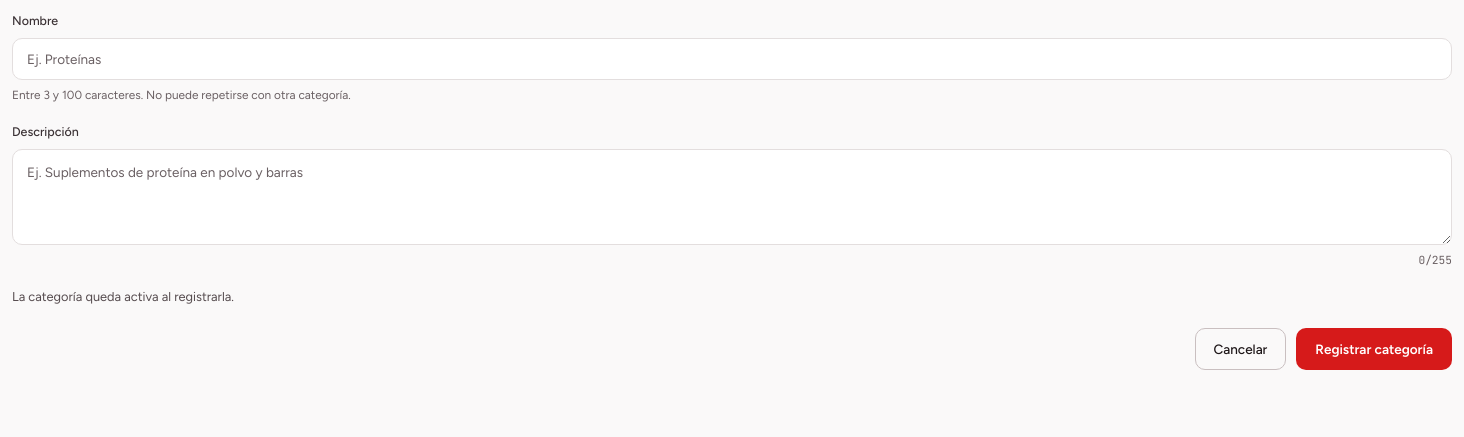
Test: CreateCategoryForm › asks for the name and the description
What coordinates should you click on to do the following:
click the button "Registrar categoría"
I would click on:
 (1374, 349)
Its box is [1296, 328, 1452, 370].
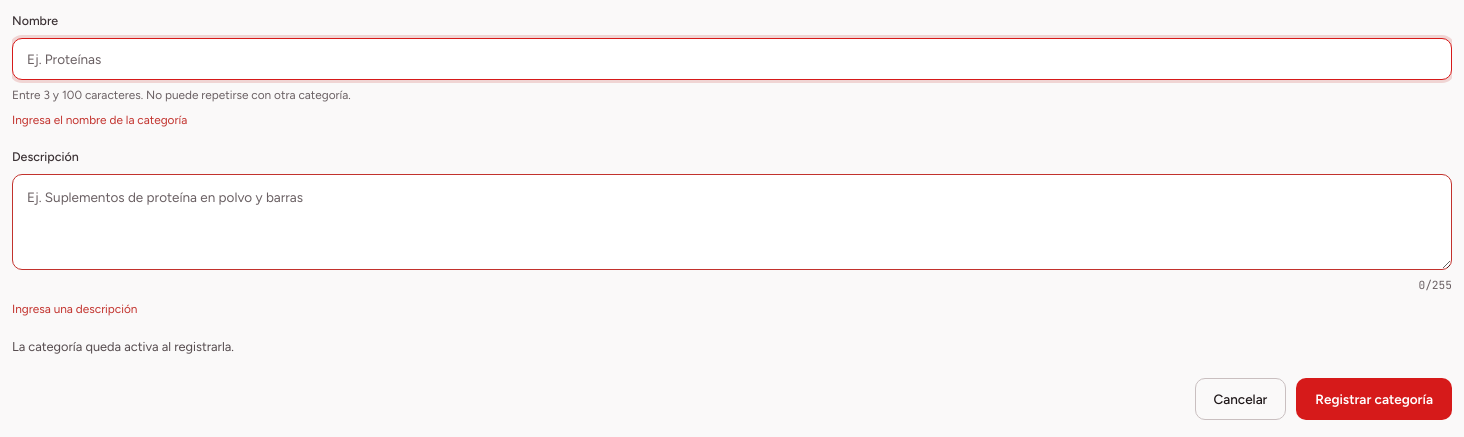
Result: the text "Ingresa el nombre de la categoría" is shown at [12, 113, 187, 127]
Result: the text "Ingresa una descripción" is shown at [12, 302, 138, 316]
